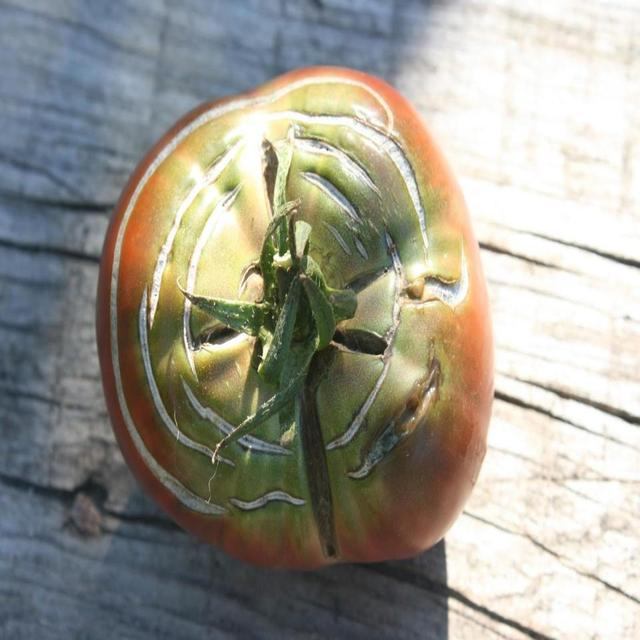Cracking Fruit: (73, 49, 309, 349)
